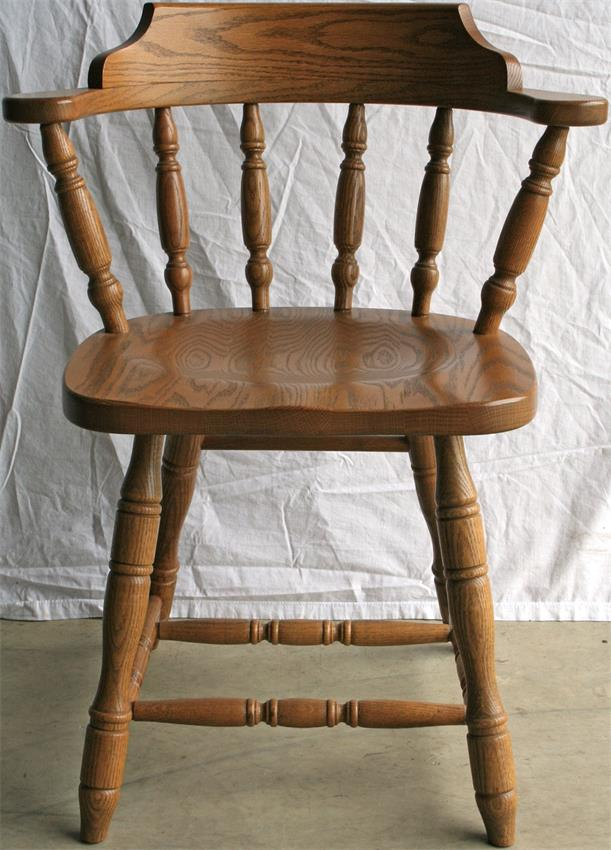chairs: (6, 4, 608, 850)
